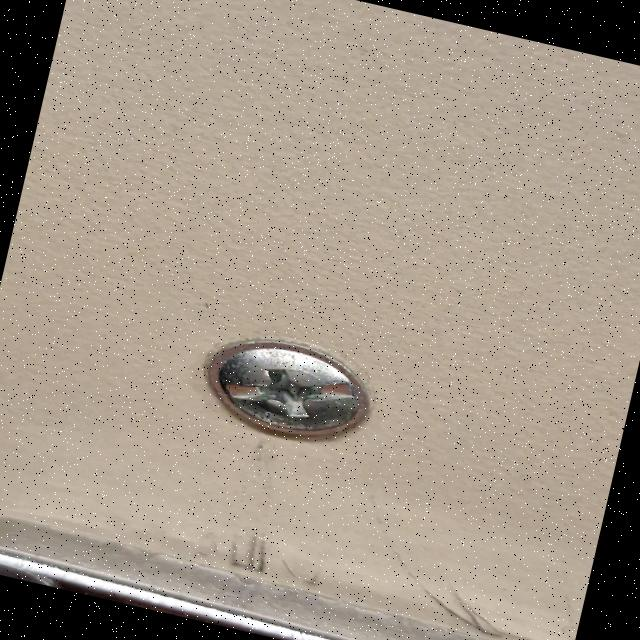Phillips: (148, 309, 410, 477)
